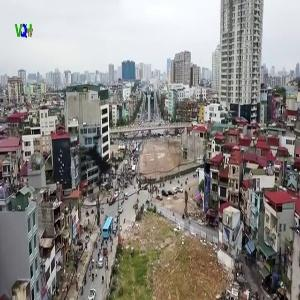drone: (42, 111, 145, 214)
